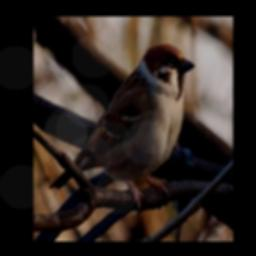Sparrow: (49, 41, 197, 216)
